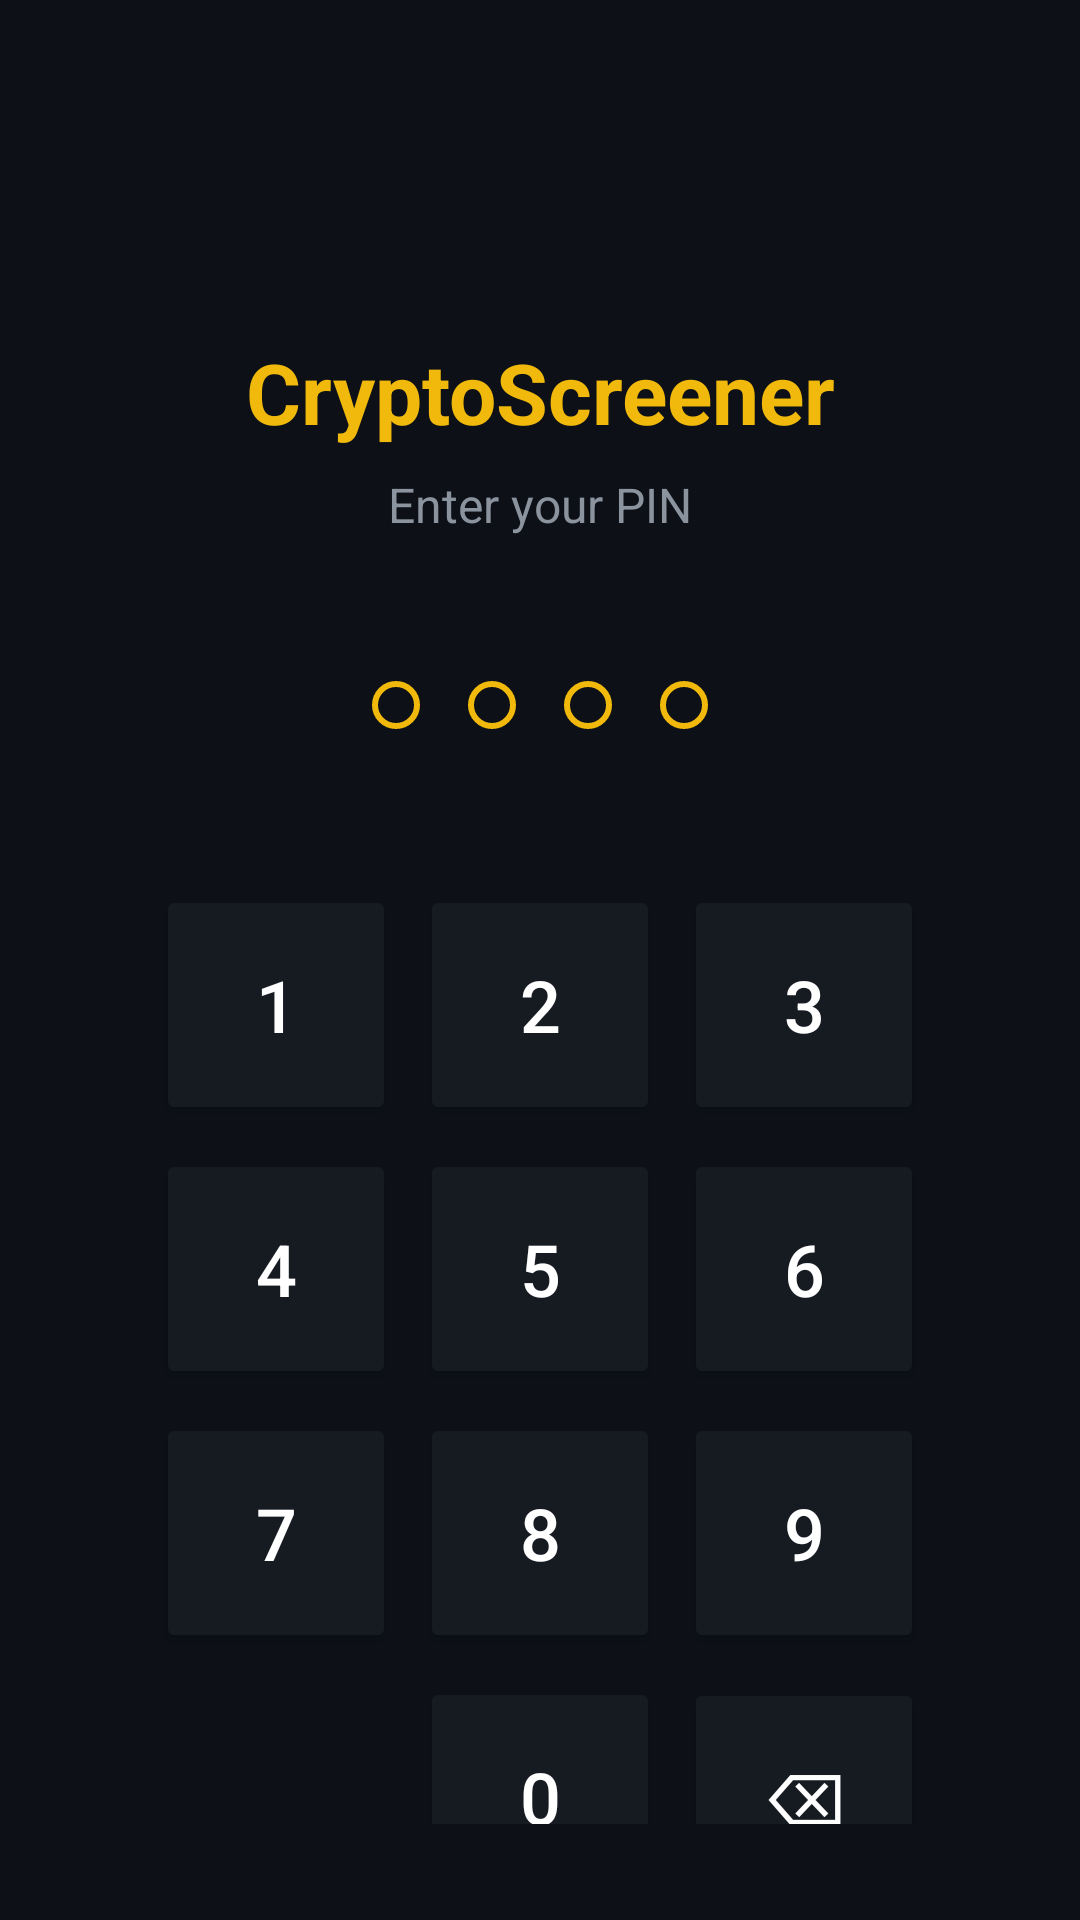

Where icons sit on this 1080w x 1920h app screen, as (x1, y1, x2, y2):
pin dot empty: (372, 681, 420, 729), (468, 681, 516, 729), (564, 681, 612, 729), (660, 681, 708, 729)
